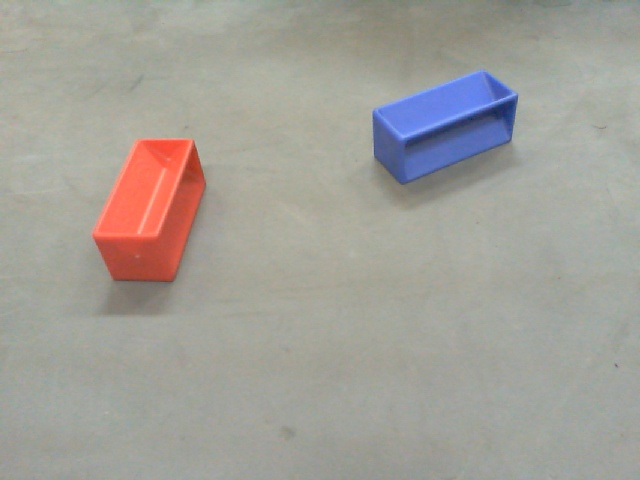BlueSample: (355, 67, 523, 189)
RedSample: (87, 134, 207, 288)
